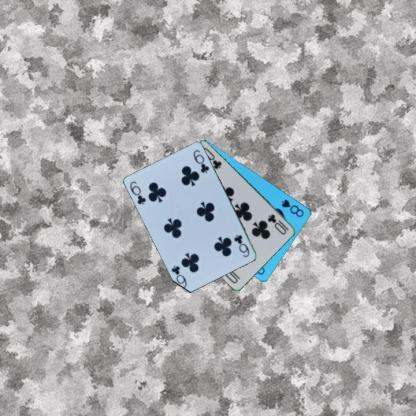10c: (265, 211, 290, 236)
6c: (128, 178, 147, 206), (232, 232, 250, 259)
8s: (279, 196, 305, 218)
